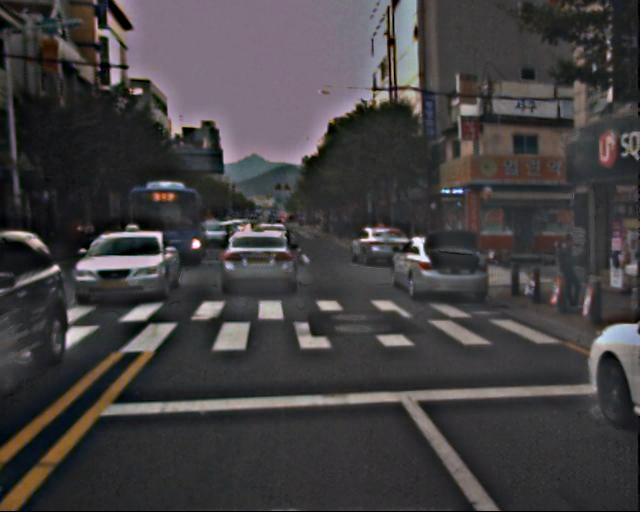person: (550, 235, 585, 308)
